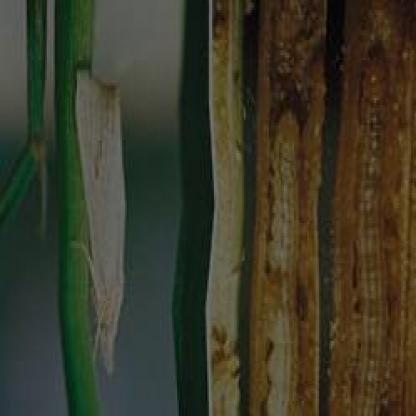stem-borer: (67, 64, 128, 377)
